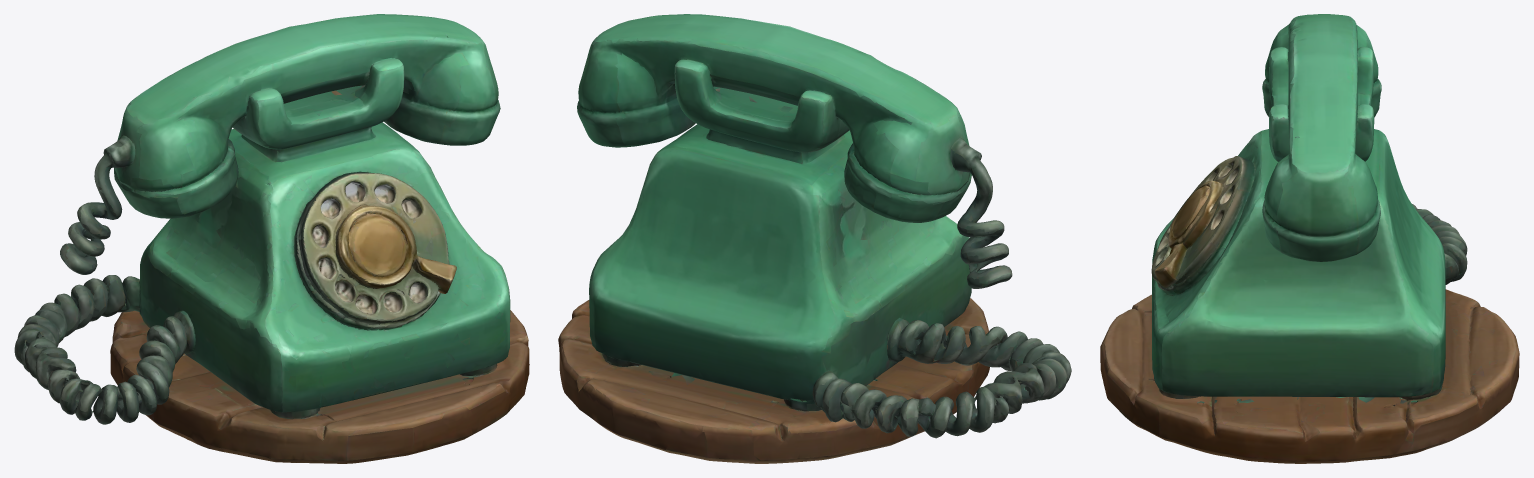
Rendered from phone-fixed.glb.
The picture shows the model from 3 angles, left to right: view 1: azimuth 30°, elevation 25°; view 2: azimuth 150°, elevation 25°; view 3: azimuth 270°, elevation 25°; orthographic projection. The views are drawn at different scales.
Parts seen in each view (by area): view 1: geometry_0; view 2: geometry_0; view 3: geometry_0.
Part boxes in pixels (x1,y1,x2,y2): geometry_0: (14, 14, 529, 463); geometry_0: (558, 14, 1071, 463); geometry_0: (1100, 14, 1519, 463).
Bounding box in the file's own units: 0.25 × 0.1809 × 0.2093.
1 material, 1 textured.
